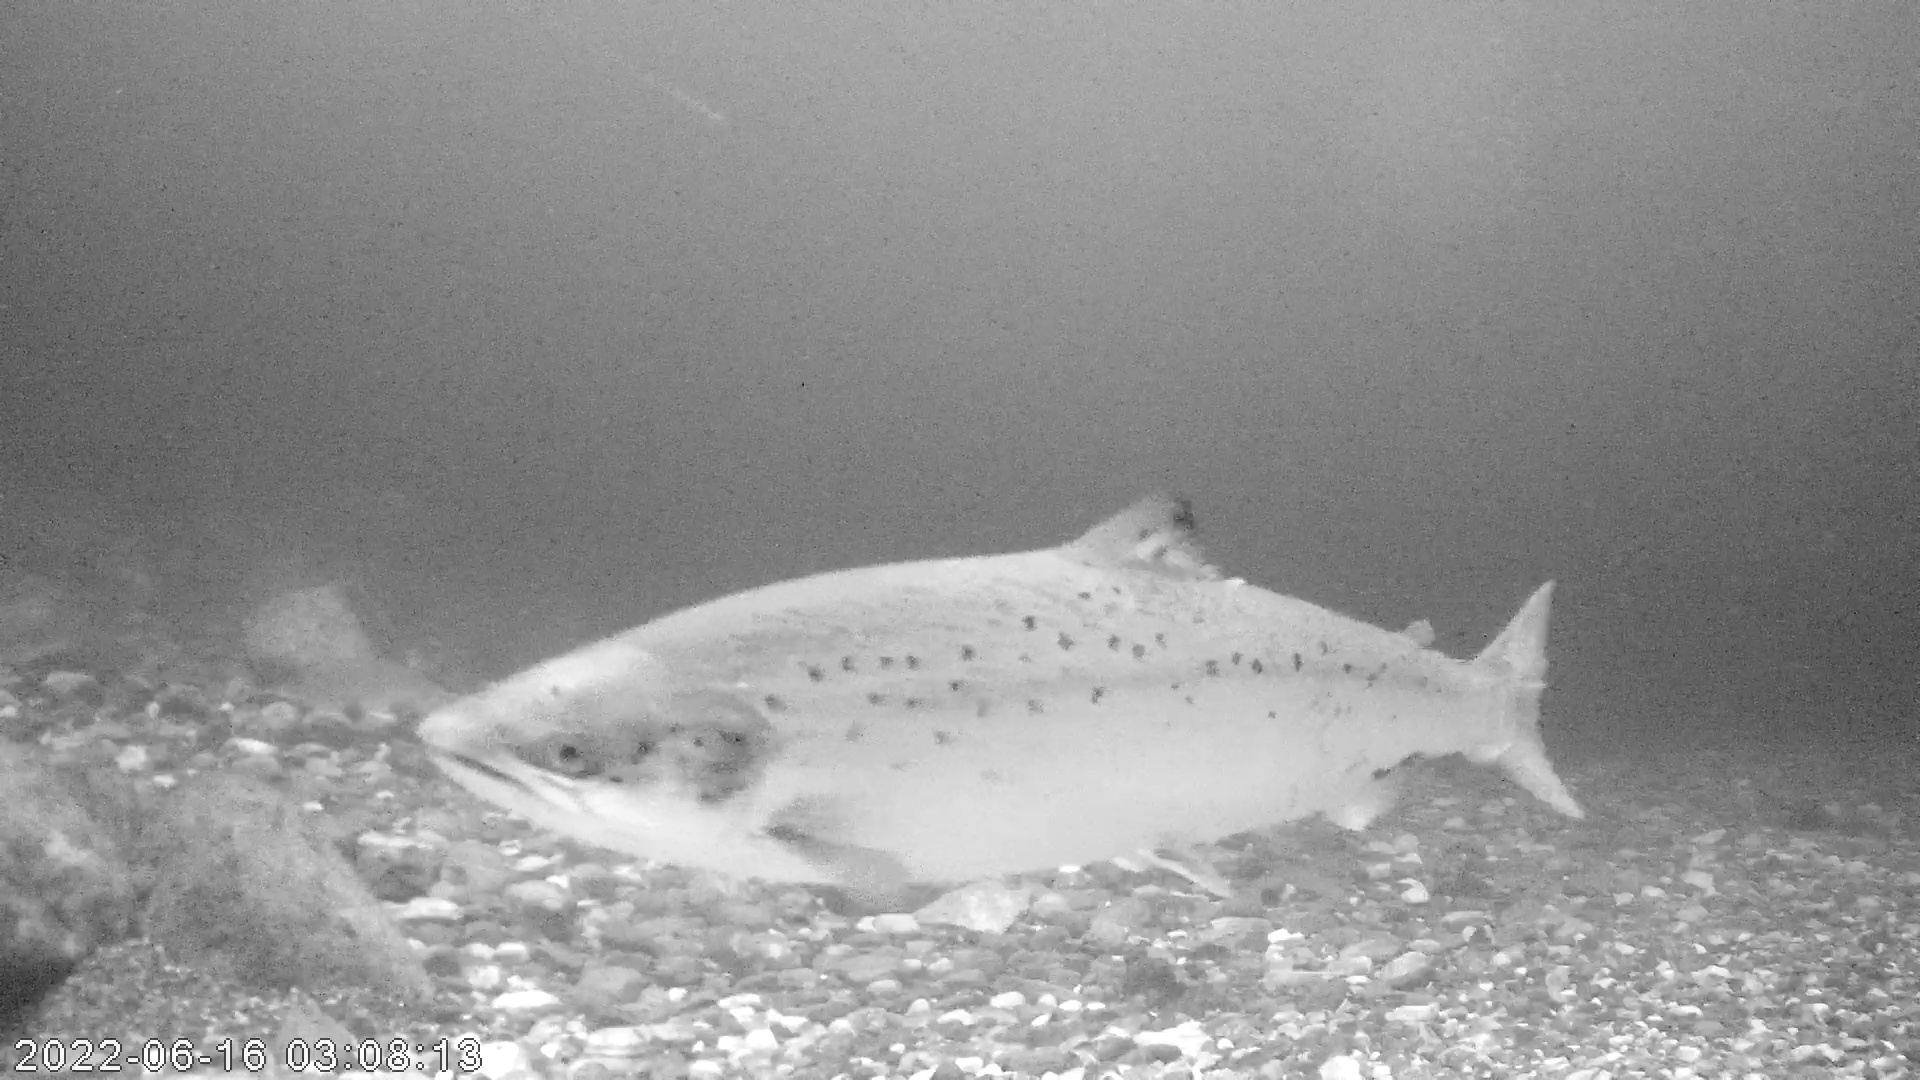salmon: (415, 489, 1589, 894)
